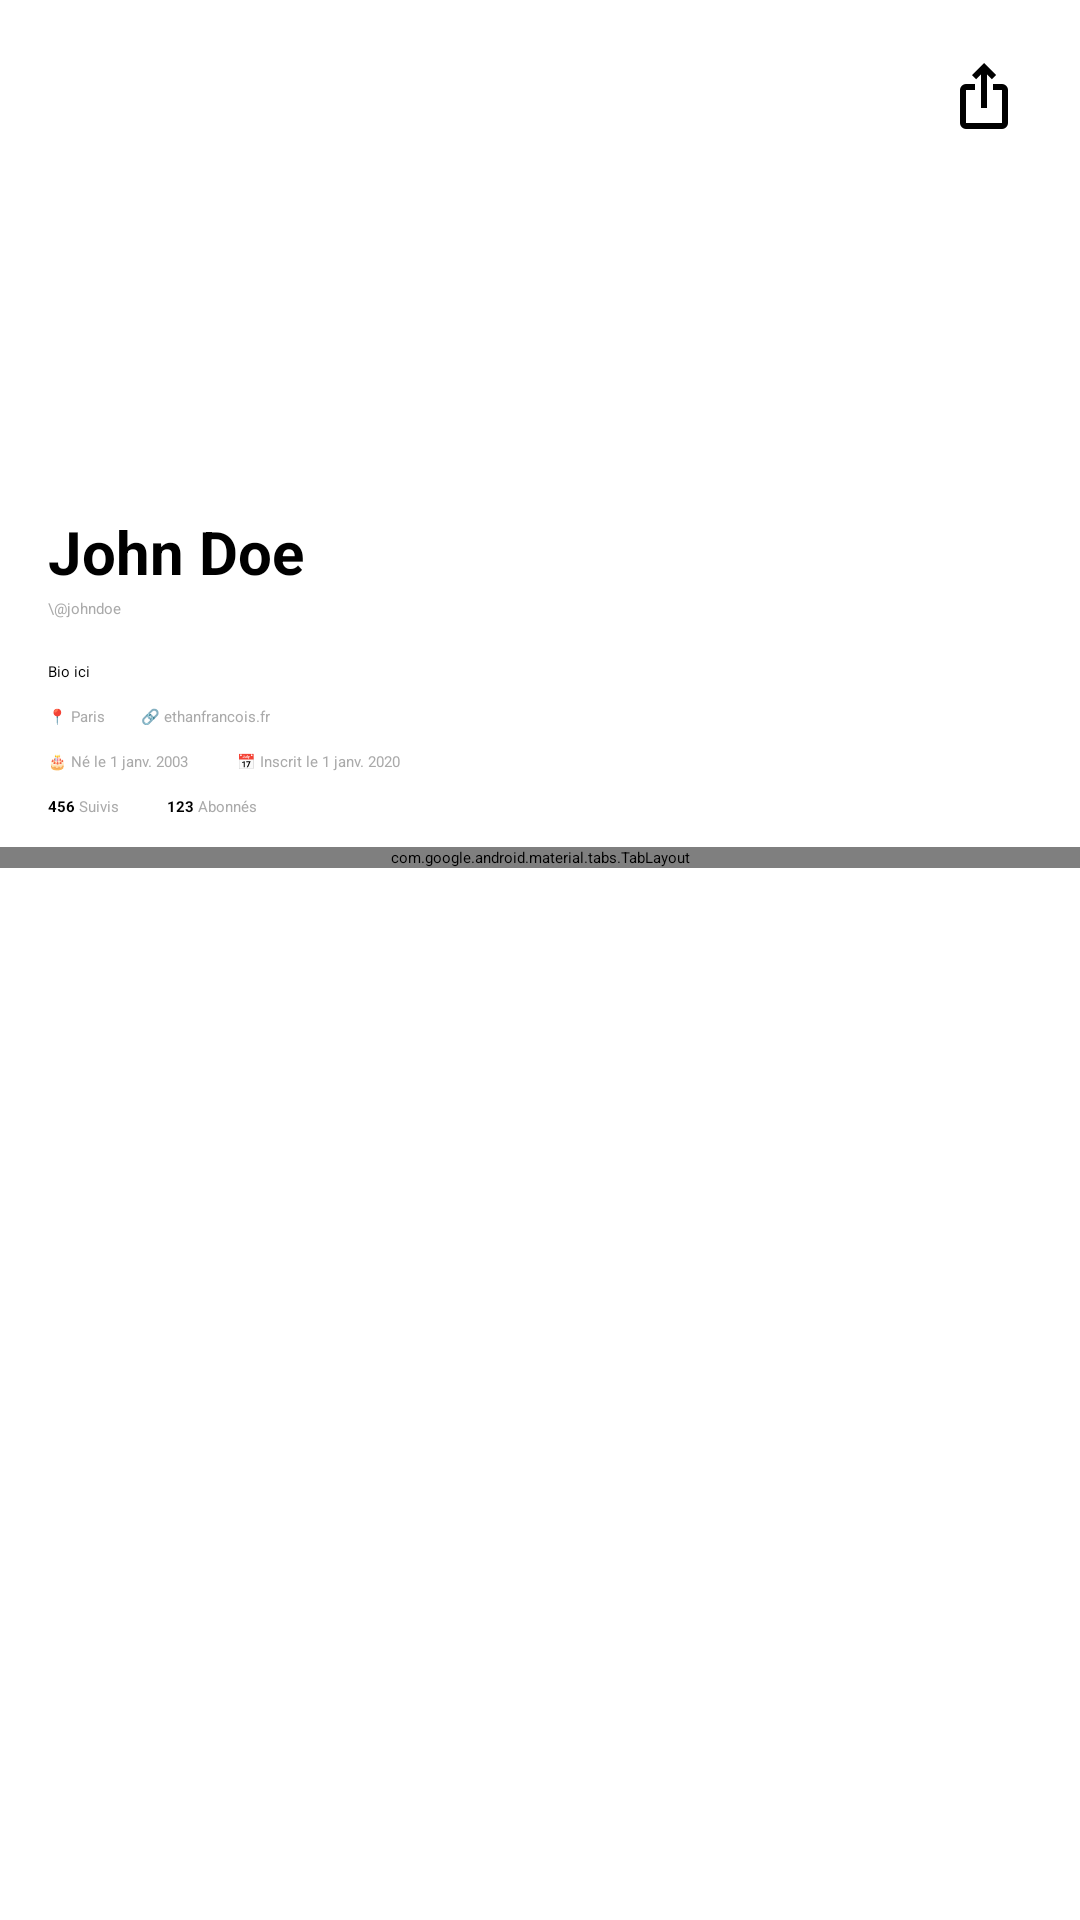

Named icons in this screenshot (1080*1920) and their centers, (x=x, y=y):
share: (x=984, y=96)
